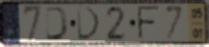2: (105, 5, 127, 42)
7: (21, 4, 43, 44), (165, 4, 185, 42)
D: (76, 5, 103, 42), (44, 6, 71, 42)
F: (136, 5, 161, 42)
